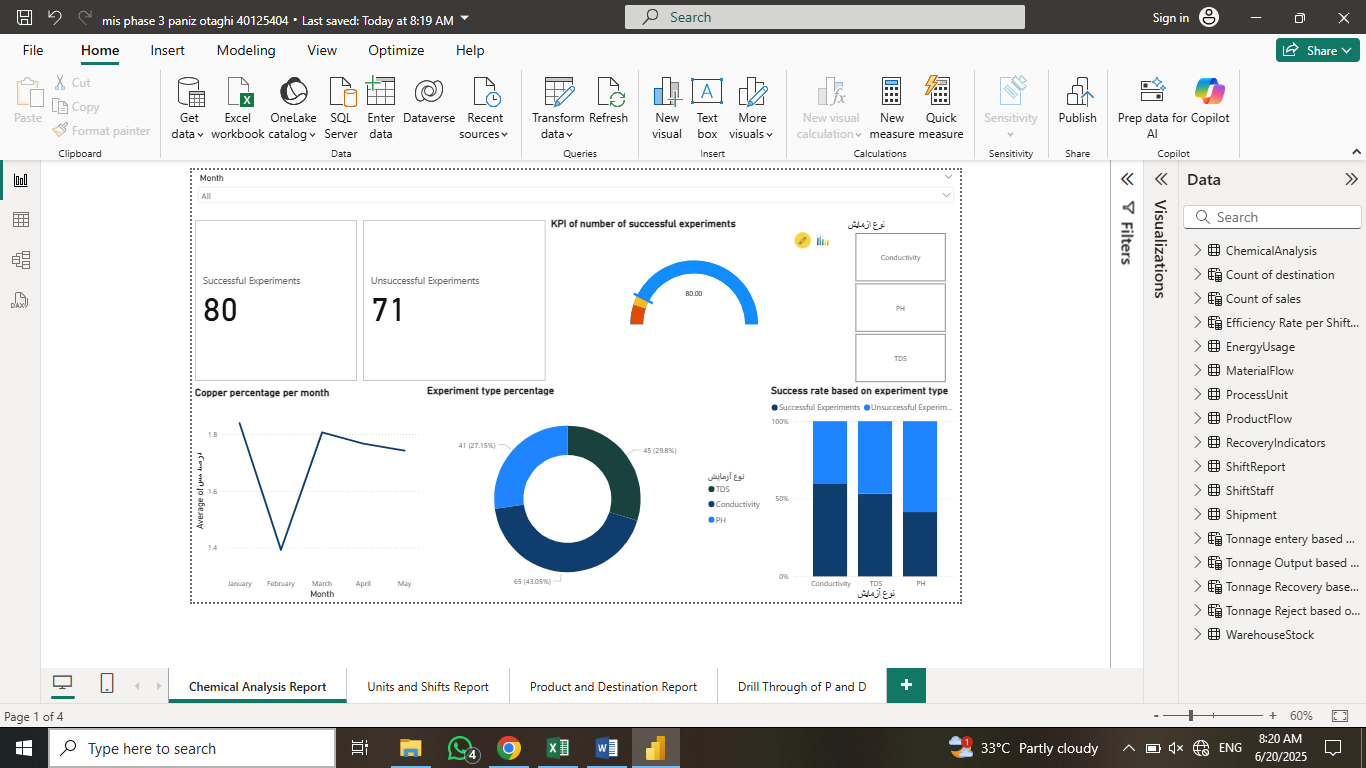

The dashboard page shown, as its layout file describes it:
{"tool":"powerbi","page":{"name":"Chemical Analysis Report","canvas":[1280,720],"ordinal":0},"visuals":[{"type":"cardVisual","fields":{"Data":["ChemicalAnalysis.darsad azmayesh movafagh2","ChemicalAnalysis.darsad azmayesh movafagh2"]},"box":[0,78.3,280,278.3],"z":0},{"type":"lineChart","title":"Copper percentage per month ","fields":{"Category":["ChemicalAnalysis.تاریخ آزمایش.Variation.Date Hierarchy.Month"],"Y":["Avg(ChemicalAnalysis.درصد مس)"]},"box":[0,360,386.7,360],"z":1000},{"type":"donutChart","title":"Experiment type percentage","fields":{"Category":["ChemicalAnalysis.نوع آزمایش"],"Y":["ChemicalAnalysis.Count TDS","ChemicalAnalysis.Count Conductivity","ChemicalAnalysis.Count PH"]},"box":[386,356,574,364],"z":2000},{"type":"hundredPercentStackedColumnChart","title":"Success rate based on experiment type","fields":{"Category":["ChemicalAnalysis.نوع آزمایش"],"Y":["ChemicalAnalysis.Successful Experiments","ChemicalAnalysis.Unsuccessful Experiments"]},"box":[960,356,320,364],"z":3000},{"type":"slicer","fields":{"Values":["ChemicalAnalysis.نوع آزمایش"]},"box":[1080,78.3,200,281.7],"z":4000},{"type":"cardVisual","fields":{"Data":["ChemicalAnalysis.Unsuccessful Experiments"]},"box":[280,78,314,278],"z":5000},{"type":"slicer","fields":{"Values":["ChemicalAnalysis.تاریخ آزمایش.Variation.Date Hierarchy.Month"]},"box":[0,0,1280,78.3],"z":6000},{"type":"advancedGauge97290A2225EA4EB5BC5C8D85F9ACA7DABETA","title":"KPI of number of successful experiments","fields":{"value1":["ChemicalAnalysis.Successful Experiments"],"minimum1":["ChemicalAnalysis.min successful experiments"],"maximum1":["ChemicalAnalysis.max successfull experiment"],"target1":["ChemicalAnalysis.target successful experiment"]},"box":[593.3,78.3,486.7,278.3],"z":7000}]}

Visuals, with their boxes on the page's 1280x720 design canvas (x1, y1, x2, y2). These are canvas units, not pixel positions in the 1366x768 screenshot, which may show the page scaled, cropped or inside an application window:
cardVisual - ChemicalAnalysis.darsad azmayesh movafagh2 x ChemicalAnalysis.darsad azmayesh movafagh2: x1=0, y1=78, x2=280, y2=357
"Copper percentage per month " lineChart: x1=0, y1=360, x2=387, y2=720
"Experiment type percentage" donutChart: x1=386, y1=356, x2=960, y2=720
"Success rate based on experiment type" hundredPercentStackedColumnChart: x1=960, y1=356, x2=1280, y2=720
slicer - ChemicalAnalysis.نوع آزمایش: x1=1080, y1=78, x2=1280, y2=360
cardVisual - ChemicalAnalysis.Unsuccessful Experiments: x1=280, y1=78, x2=594, y2=356
slicer - ChemicalAnalysis.تاریخ آزمایش.Variation.Date Hierarchy.Month: x1=0, y1=0, x2=1280, y2=78
"KPI of number of successful experiments" advancedGauge97290A2225EA4EB5BC5C8D85F9ACA7DABETA: x1=593, y1=78, x2=1080, y2=357
